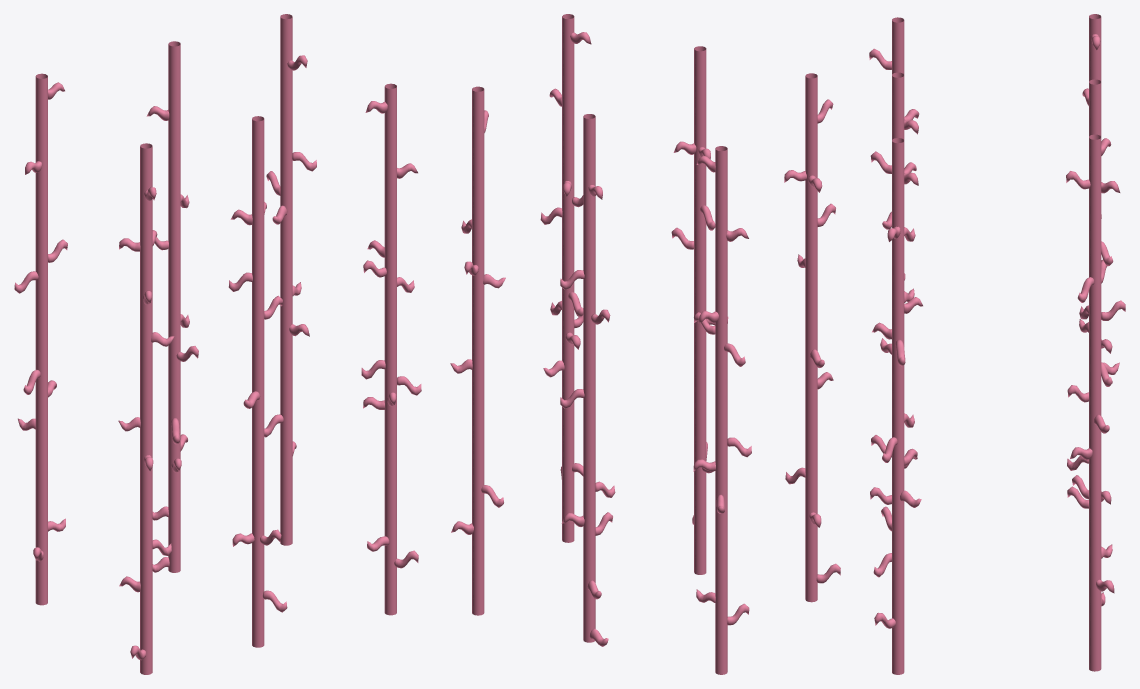
The model's file is treesfix6.fbx.
3 views of the same model, side by side, from view 1: azimuth 30°, elevation 25°; view 2: azimuth 150°, elevation 25°; view 3: azimuth 270°, elevation 25° (orthographic).
Parts seen in each view (by area): view 1: Tree 6, Tree 3, Tree 5, Tree 4, Tree 1, Tree 2; view 2: Tree 3, Tree 2, Tree 4, Tree 1, Tree 6, Tree 5; view 3: Tree 6, Tree 1, Tree 2, Tree 4, Tree 5, Tree 3.
Boxes of the visible parts, left/top/right/bottom form: Tree 6: left=361, top=83, right=421, bottom=615; Tree 3: left=14, top=73, right=67, bottom=605; Tree 5: left=228, top=116, right=287, bottom=647; Tree 4: left=118, top=143, right=174, bottom=674; Tree 1: left=264, top=14, right=316, bottom=545; Tree 2: left=146, top=41, right=198, bottom=572; Tree 3: left=693, top=146, right=751, bottom=674; Tree 2: left=560, top=114, right=615, bottom=646; Tree 4: left=784, top=73, right=840, bottom=602; Tree 1: left=450, top=86, right=505, bottom=615; Tree 6: left=540, top=14, right=591, bottom=542; Tree 5: left=671, top=46, right=728, bottom=574; Tree 6: left=871, top=138, right=922, bottom=674; Tree 1: left=1066, top=134, right=1125, bottom=671; Tree 2: left=1067, top=79, right=1113, bottom=606; Tree 4: left=869, top=17, right=919, bottom=531; Tree 5: left=870, top=72, right=918, bottom=577; Tree 3: left=1072, top=14, right=1120, bottom=499.
Bounding box in the file's own units: 4.5 × 3.28 × 7.5.
